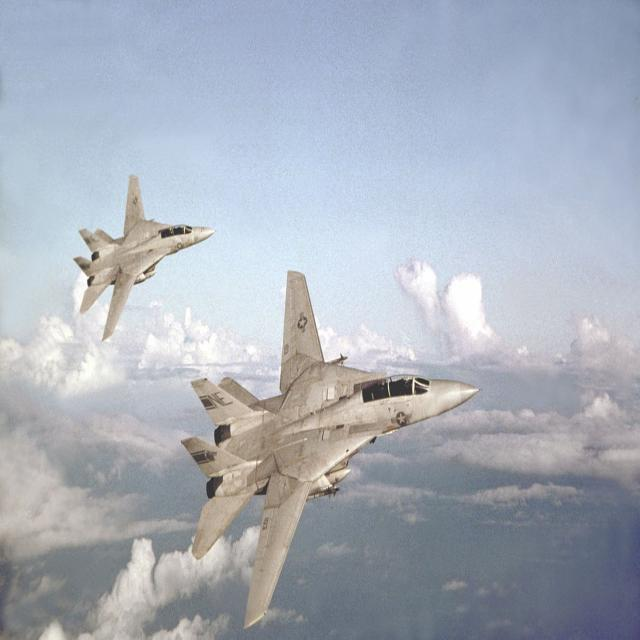MIL_Plane: (180, 269, 482, 629), (72, 174, 218, 342)
